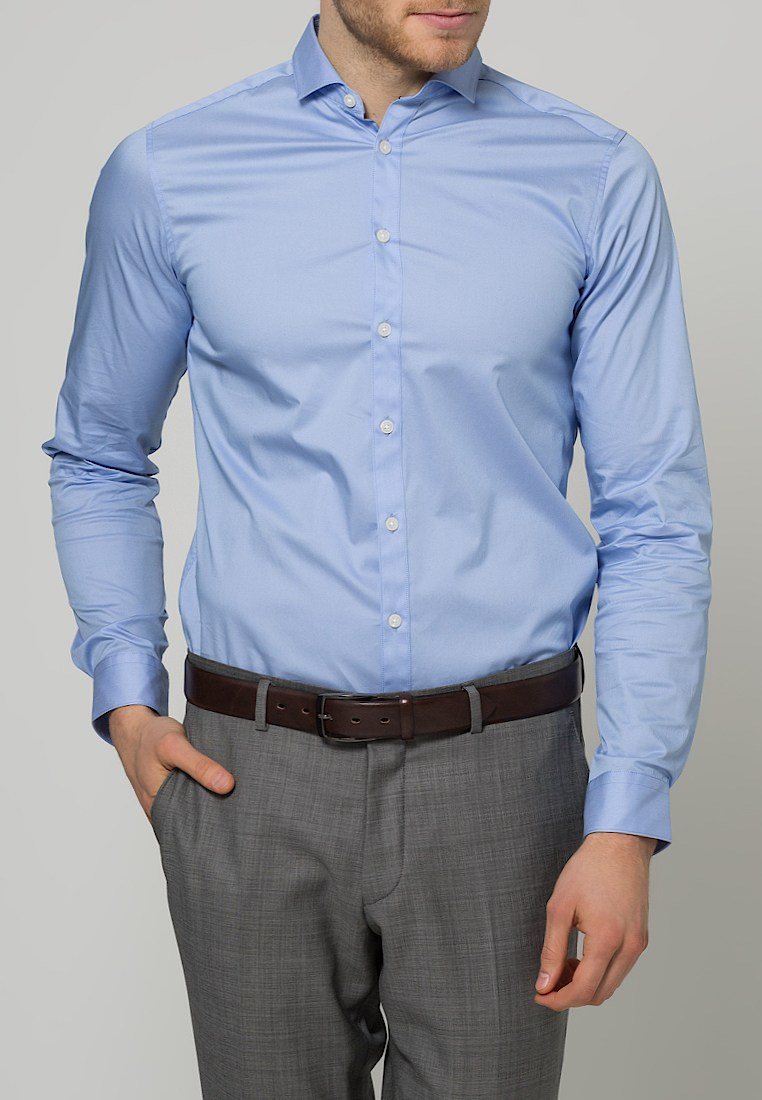F_belt: (159, 655, 598, 764)
F_dress pants: (146, 650, 594, 1100)
F_shirt: (63, 11, 703, 859)
